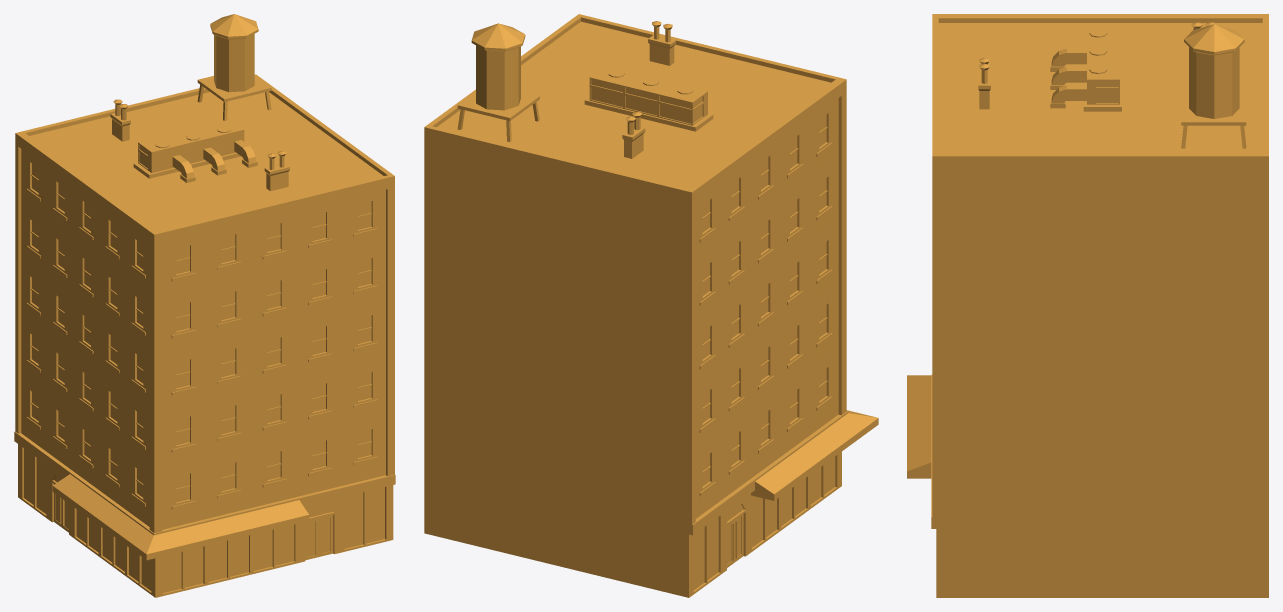
Rendered from building-block-5floor-corner.fbx.
3 views of the same model, side by side, from view 1: azimuth 30°, elevation 25°; view 2: azimuth 150°, elevation 25°; view 3: azimuth 270°, elevation 25° (orthographic). The views are drawn at different scales.
Parts seen in each view (by area): view 1: building-block-5floor-corner; view 2: building-block-5floor-corner; view 3: building-block-5floor-corner.
Part boxes in pixels (<box>): building-block-5floor-corner: <box>14,14,395,597</box>; building-block-5floor-corner: <box>424,14,878,597</box>; building-block-5floor-corner: <box>907,14,1268,597</box>.
Bounding box in the file's own units: 14.25 × 23.81 × 14.25.
